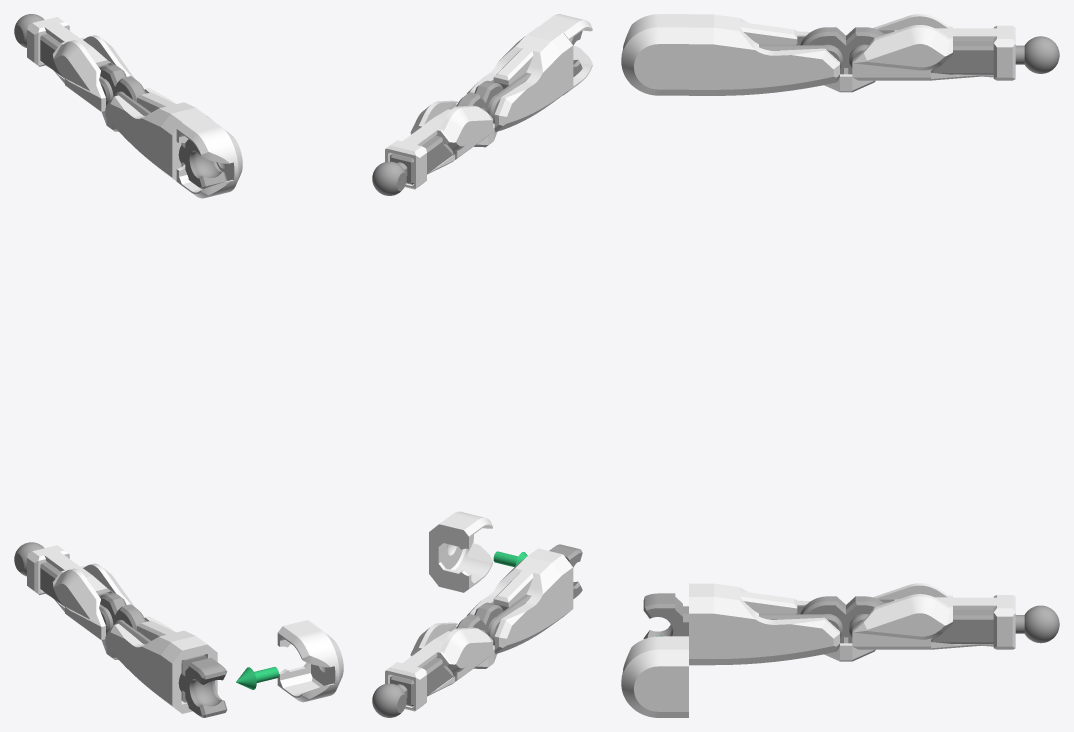
The model's file is thigh.glb.
3 renders of one model, left to right at view 1: azimuth 30°, elevation 25°; view 2: azimuth 150°, elevation 25°; view 3: azimuth 270°, elevation 25°, orthographic. The views are drawn at different scales.
Visible parts, largest first — view 1: Body1.037, Body1.030, Body1.031, Body1.038, Body1.036, Body1.029, Body1.033, Body1.035, Body1.026, Body1.028, Body2.002, Body2.003 (+2 smaller); view 2: Body1.030, Body1.037, Body1.038, Body1.031, Body1.036, Body1.035, Body1.028, Body1.029, Body2.003, Body2.002, Body1.033, Body1.027 (+1 smaller); view 3: Body1.037, Body1.030, Body1.031, Body1.038, Body1.029, Body1.036, Body1.028, Body1.035, Body2.003, Body2.002, Body1.033.
Boxes of the visible parts, bbox=[...] form: Body1.037: bbox=[105, 616, 217, 713]; Body1.030: bbox=[105, 88, 212, 181]; Body1.031: bbox=[27, 17, 133, 113]; Body1.038: bbox=[27, 545, 134, 641]; Body1.036: bbox=[277, 620, 343, 702]; Body1.029: bbox=[176, 116, 242, 198]; Body1.033: bbox=[182, 657, 227, 717]; Body1.035: bbox=[14, 542, 113, 634]; Body1.026: bbox=[182, 139, 226, 189]; Body1.028: bbox=[14, 14, 113, 106]; Body2.002: bbox=[99, 64, 145, 102]; Body2.003: bbox=[100, 592, 145, 631]; Body1.030: bbox=[467, 26, 573, 132]; Body1.037: bbox=[467, 548, 573, 653]; Body1.038: bbox=[385, 622, 493, 711]; Body1.031: bbox=[385, 100, 493, 189]; Body1.036: bbox=[429, 511, 492, 592]; Body1.035: bbox=[372, 629, 486, 717]; Body1.028: bbox=[372, 107, 486, 195]; Body1.029: bbox=[539, 14, 592, 95]; Body2.003: bbox=[456, 602, 503, 634]; Body2.002: bbox=[456, 80, 503, 112]; Body1.033: bbox=[549, 544, 582, 598]; Body1.027: bbox=[487, 72, 531, 123]; Body1.037: bbox=[689, 583, 839, 665]; Body1.030: bbox=[689, 14, 839, 95]; Body1.031: bbox=[852, 14, 1015, 80]; Body1.038: bbox=[852, 583, 1015, 649]; Body1.029: bbox=[621, 14, 688, 95]; Body1.036: bbox=[621, 636, 688, 717]; Body1.028: bbox=[849, 36, 1059, 74]; Body1.035: bbox=[849, 605, 1059, 643]; Body2.003: bbox=[800, 596, 884, 643]; Body2.002: bbox=[800, 27, 884, 74]; Body1.033: bbox=[643, 593, 688, 638].
Bounding box in the file's own units: 28.9 × 112 × 69.8.
